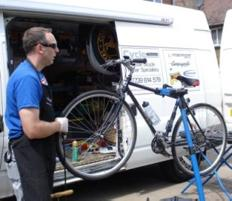person: (3, 26, 71, 199)
